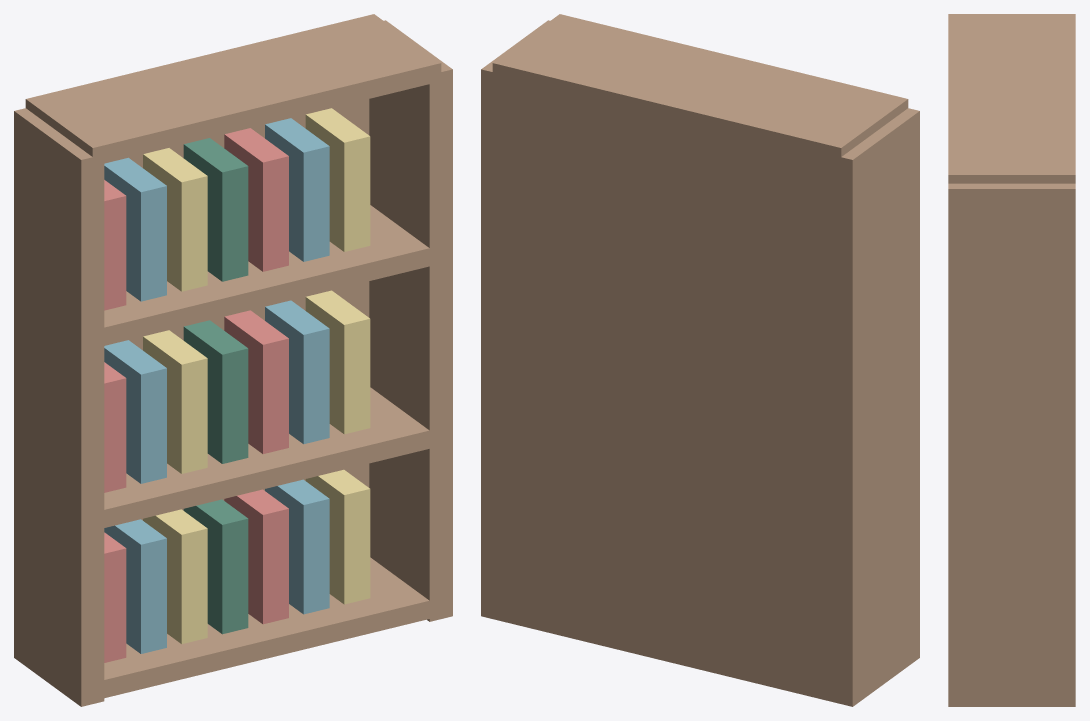
Rendered from bookshelf.glb.
3 renders of one model, left to right at view 1: azimuth 30°, elevation 25°; view 2: azimuth 150°, elevation 25°; view 3: azimuth 270°, elevation 25°, orthographic. The views are drawn at different scales.
Visible parts, largest first — view 1: bookshelf_000, bookshelf_001, bookshelf_006, bookshelf_004, bookshelf_005, bookshelf_003, bookshelf_017, bookshelf_027, bookshelf_024, bookshelf_020, bookshelf_016, bookshelf_019 (+16 smaller); view 2: bookshelf_002, bookshelf_000, bookshelf_006, bookshelf_001, bookshelf_005, bookshelf_004; view 3: bookshelf_001, bookshelf_006.
Part boxes in pixels (box(x1,y1,x2,y2)): bookshelf_000: box(14, 108, 104, 706); bookshelf_001: box(369, 20, 452, 621); bookshelf_006: box(25, 14, 441, 163); bookshelf_004: box(92, 387, 429, 530); bookshelf_005: box(93, 205, 437, 347); bookshelf_003: box(104, 557, 436, 698); bookshelf_017: box(183, 320, 248, 463); bookshelf_027: box(305, 108, 370, 251); bookshelf_024: box(183, 138, 248, 281); bookshelf_020: box(305, 290, 370, 434); bookshelf_016: box(143, 330, 207, 473); bookshelf_019: box(265, 300, 329, 444); bookshelf_002: box(492, 73, 841, 703); bookshelf_000: box(829, 108, 919, 706); bookshelf_006: box(492, 14, 908, 164); bookshelf_001: box(481, 20, 549, 621); bookshelf_005: box(493, 246, 841, 348); bookshelf_004: box(642, 473, 841, 530); bookshelf_001: box(948, 183, 1075, 706); bookshelf_006: box(948, 14, 1075, 183).
Bounding box in the file's own units: 1.28 × 1.83 × 0.4.
